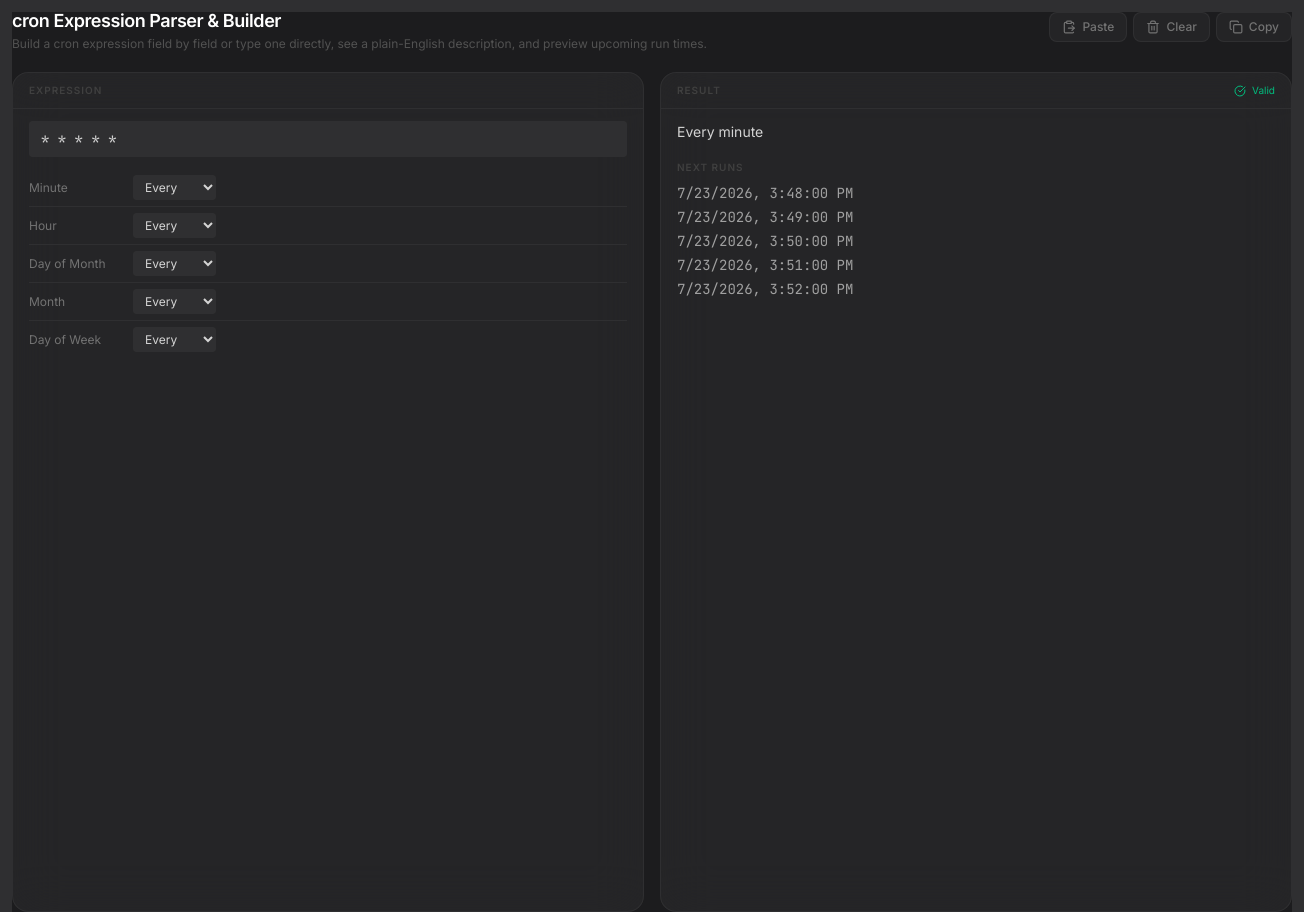
Test: CronBuilderTool › adjusting the Hour range start/end updates the expression
The width and height of the screenshot is (1304, 912).
Select "Range" in the dropdown named "Hour mode" at (174, 226), box [133,213,216,238]
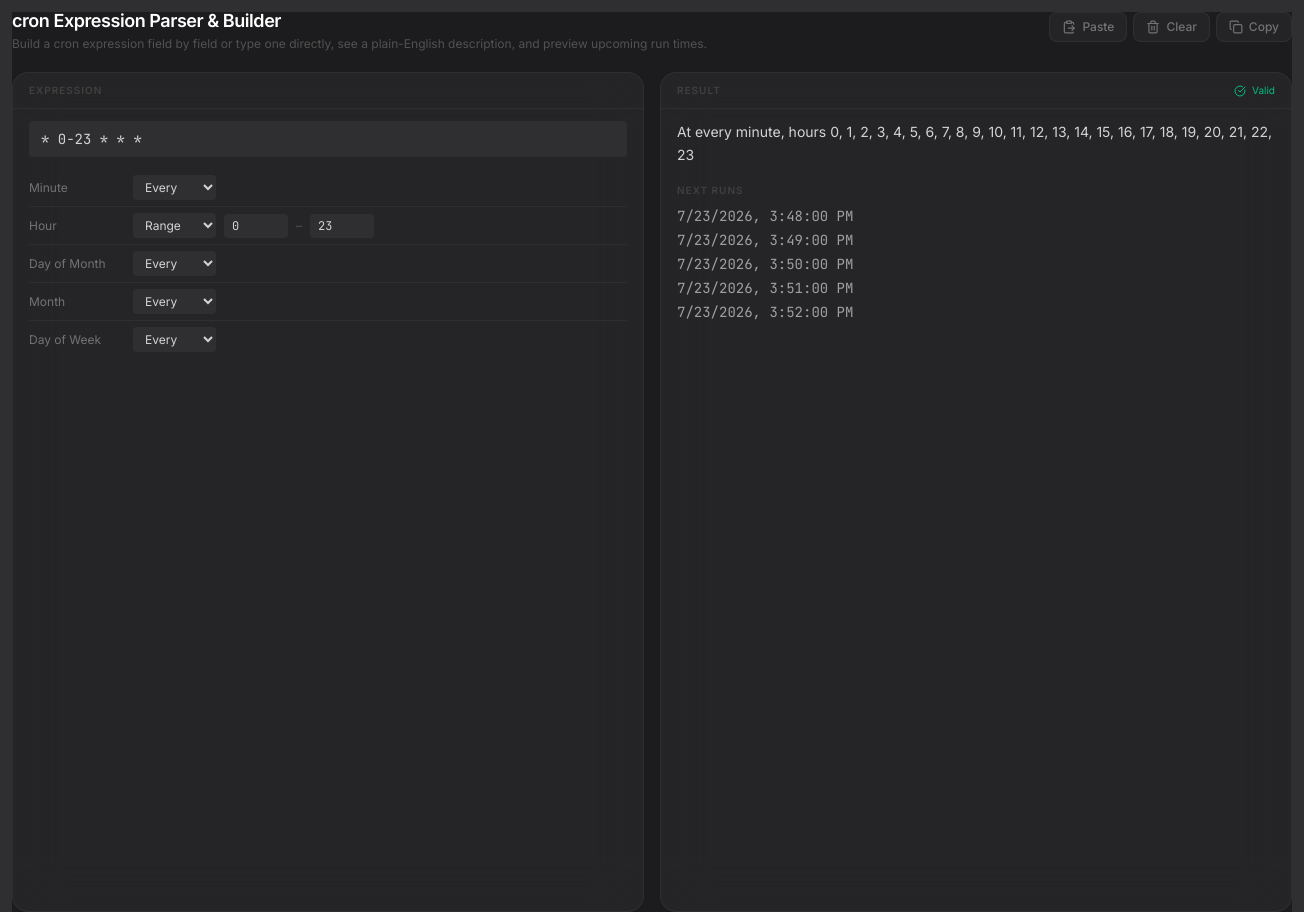
Replace the text in the number field named "Hour start" with "9" at (256, 226), box [224,214,288,238]
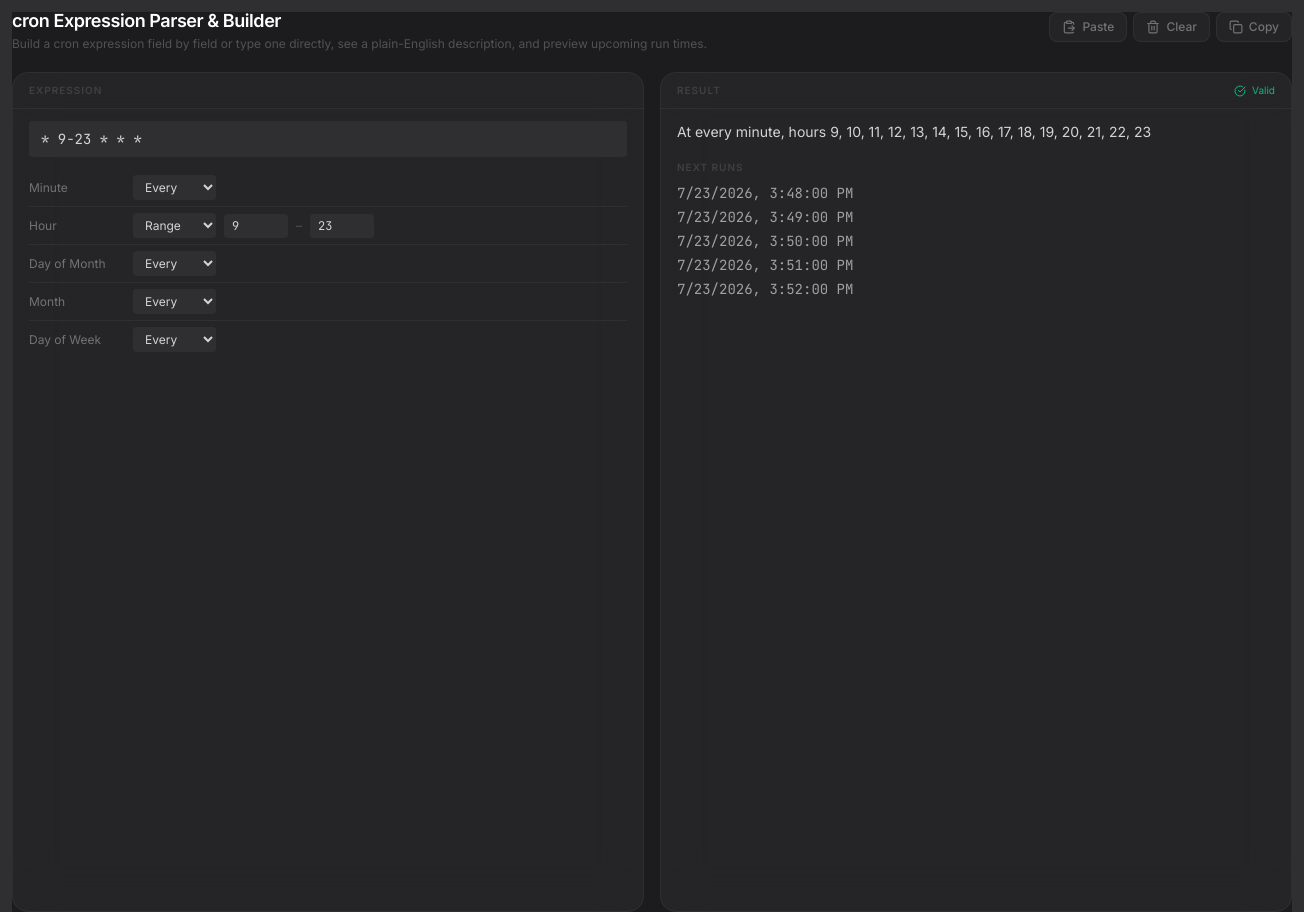
Replace the text in the number field named "Hour end" with "17" at (342, 226), box [310,214,374,238]
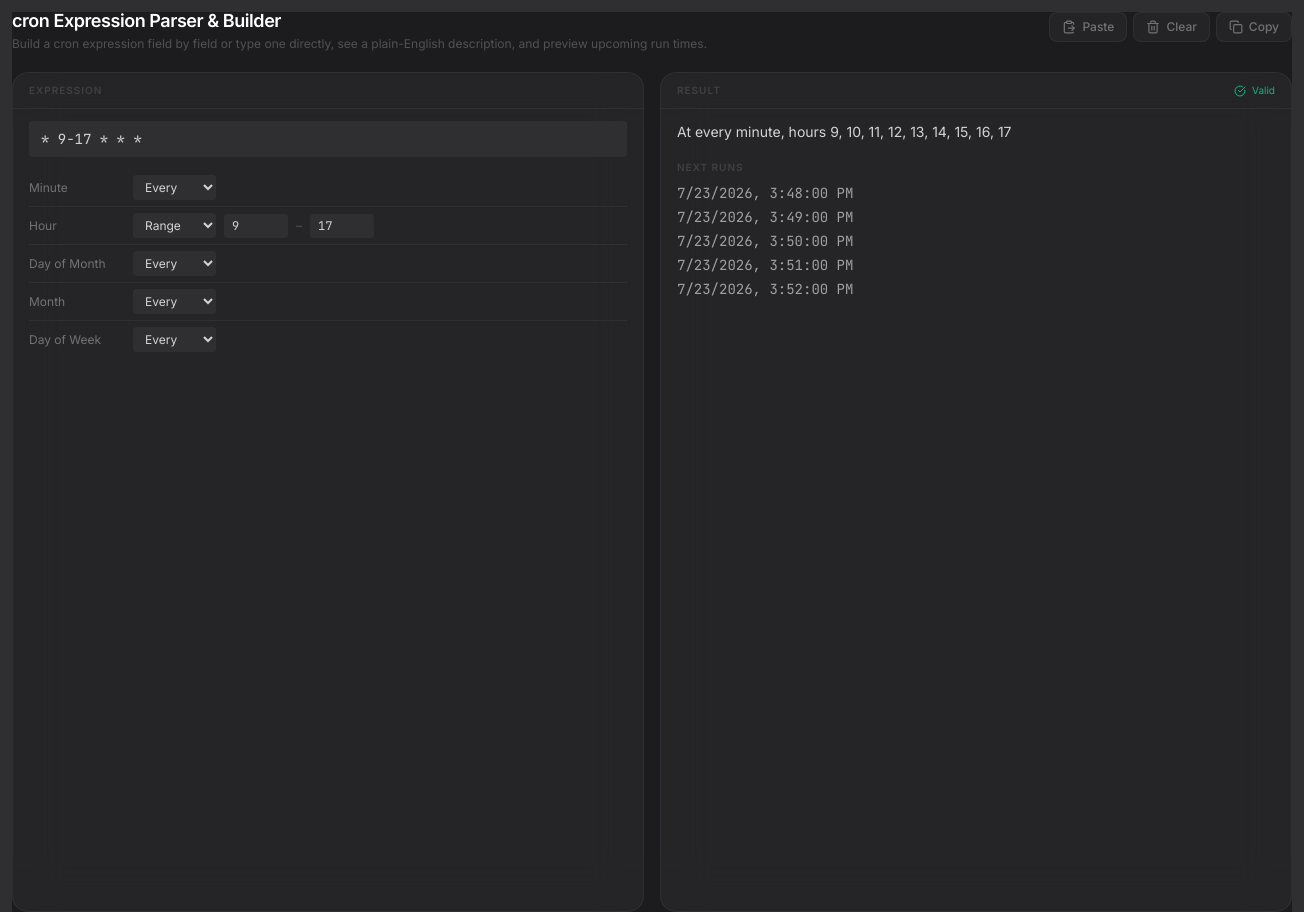
Result: the field with placeholder "*/15 9-17 * * 1-5" holds "* 9-17 * * *" at [29,121,627,157]
